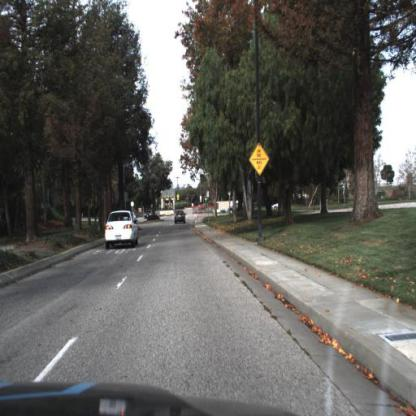car: (103, 208, 141, 245), (172, 209, 186, 225)
